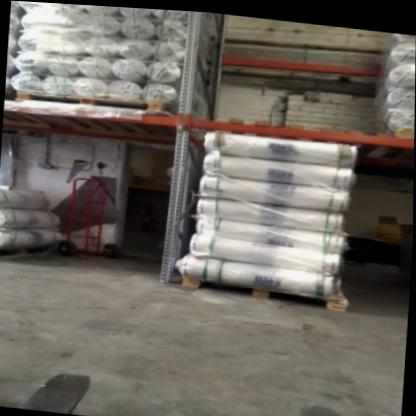vertical_damage: (158, 242, 188, 288)
